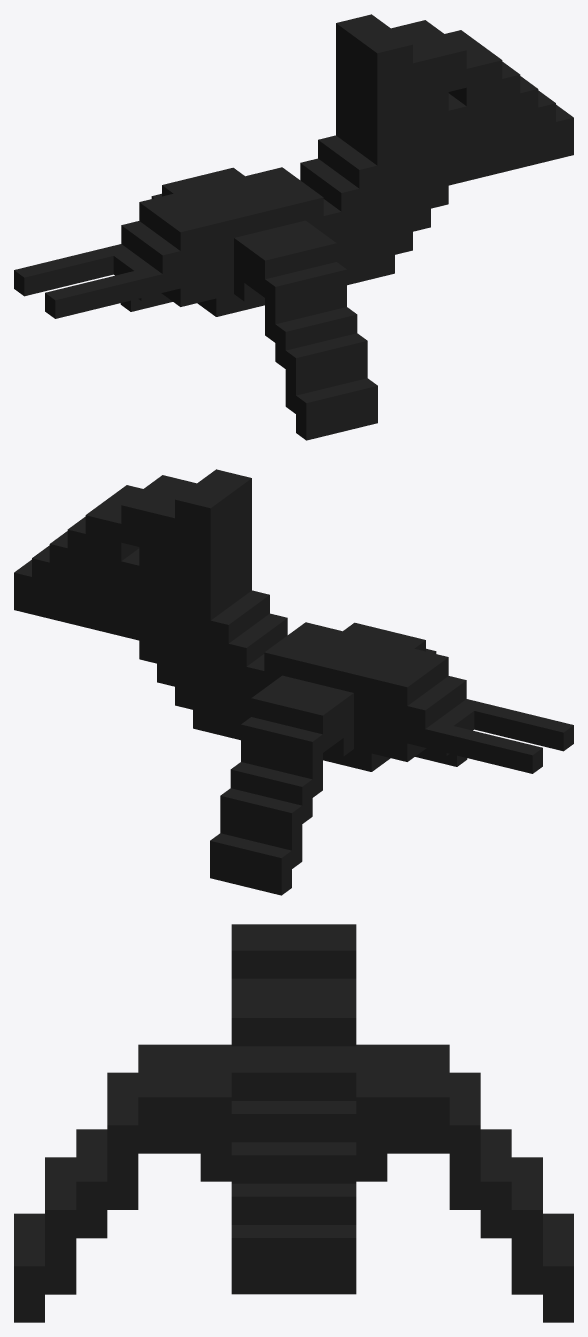
Rendered from pterodactyl-3.obj.
3 renders of one model, top to bottom at view 1: azimuth 30°, elevation 25°; view 2: azimuth 150°, elevation 25°; view 3: azimuth 270°, elevation 25°, orthographic. The views are drawn at different scales.
Visible parts, largest first — view 1: Untitled.002; view 2: Untitled.002; view 3: Untitled.002.
Part boxes in pixels (x1,y1,x2,y2): Untitled.002: (14, 14, 573, 440); Untitled.002: (14, 469, 573, 895); Untitled.002: (14, 924, 573, 1322).
Size of the model in its own units: 2.9 by 1.6 by 1.8.
Materials: 1 (1 with a texture image).
